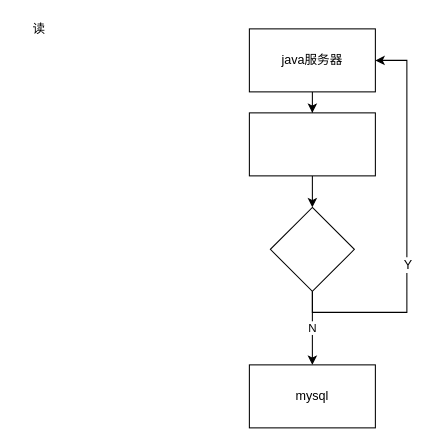
Some shapes in this 434 by 446 pixel diagram are drawn without their labels. Here are the shapes that lost their labels. From the top down, the box of each, then its label:
(248, 112, 375, 176): redis
(269, 206, 354, 291): 是否有数据
